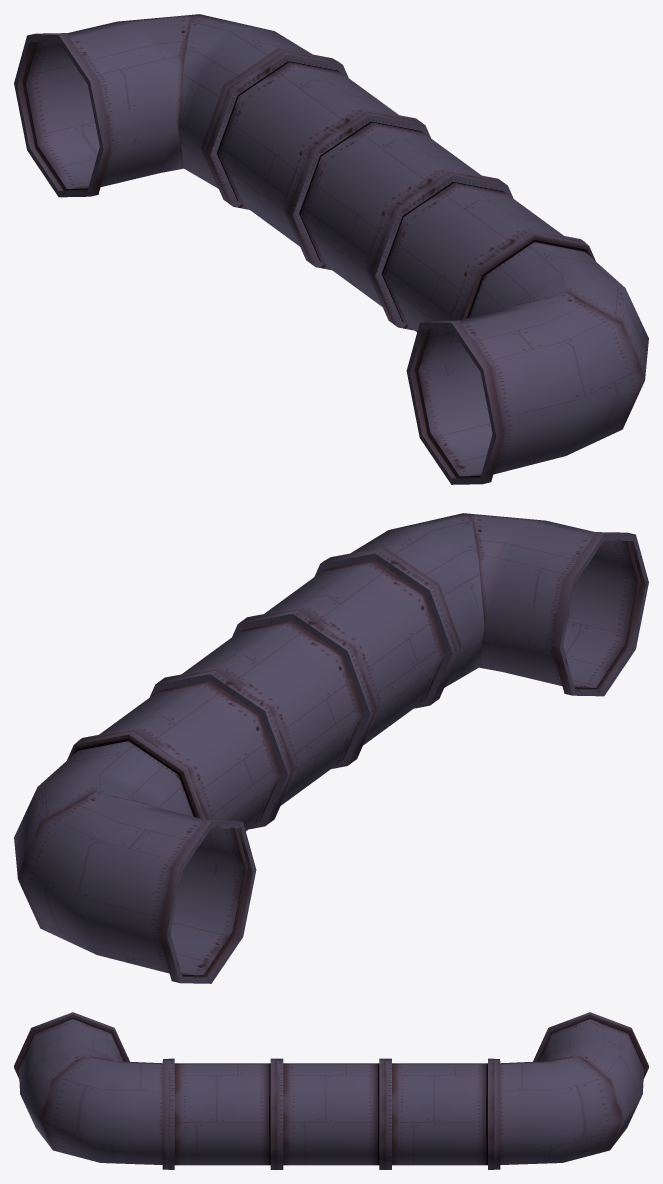
Rendered from Deco_Pipe_002.glb.
3 renders of one model, top to bottom at view 1: azimuth 30°, elevation 25°; view 2: azimuth 150°, elevation 25°; view 3: azimuth 270°, elevation 25°, orthographic. The views are drawn at different scales.
Visible parts, largest first — view 1: Deco_Pipe.002; view 2: Deco_Pipe.002; view 3: Deco_Pipe.002.
Boxes of the visible parts, left/top/right/bottom form: Deco_Pipe.002: left=14, top=14, right=648, bottom=484; Deco_Pipe.002: left=14, top=513, right=648, bottom=983; Deco_Pipe.002: left=14, top=1012, right=648, bottom=1169.
Size of the model in its own units: 3.22 by 2.18 by 11.7.
Materials: 1 (1 with a texture image).
